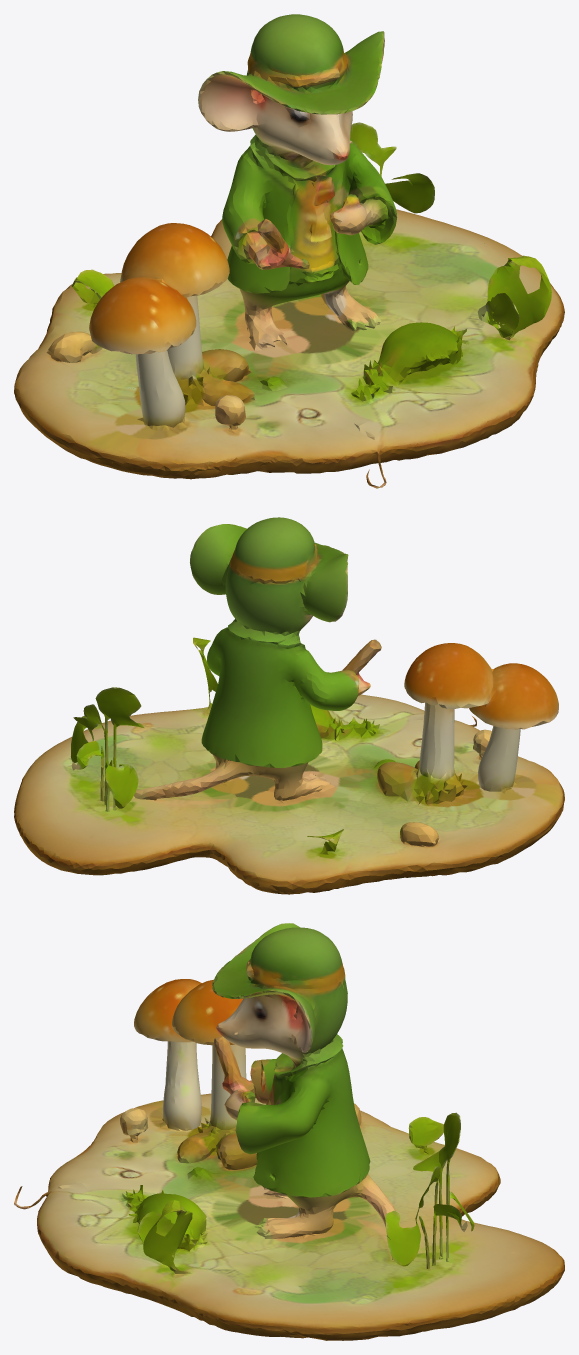
3 views of the same model, one above another, from view 1: azimuth 30°, elevation 25°; view 2: azimuth 150°, elevation 25°; view 3: azimuth 270°, elevation 25° (orthographic). The views are drawn at different scales.
Visible parts, largest first — view 1: 002; view 2: 002; view 3: 002.
Boxes of the visible parts, box(x1,y1,x2,y2) form: 002: box(14, 14, 564, 488); 002: box(14, 517, 564, 894); 002: box(14, 923, 564, 1340).
Size of the model in its own units: 1.89 by 1.13 by 1.86.
Materials: 1 (1 with a texture image).
